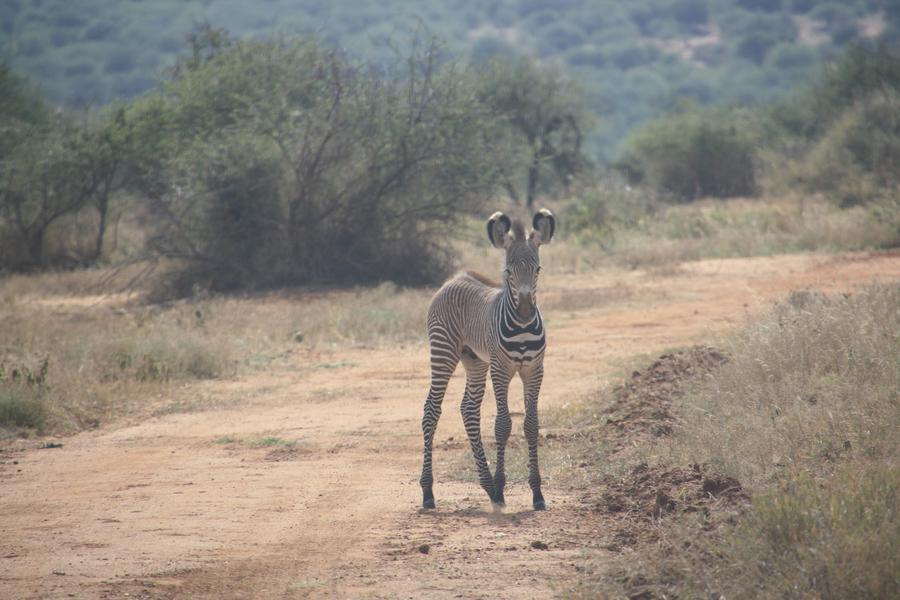zebra_grevys: (434, 260, 512, 352)
